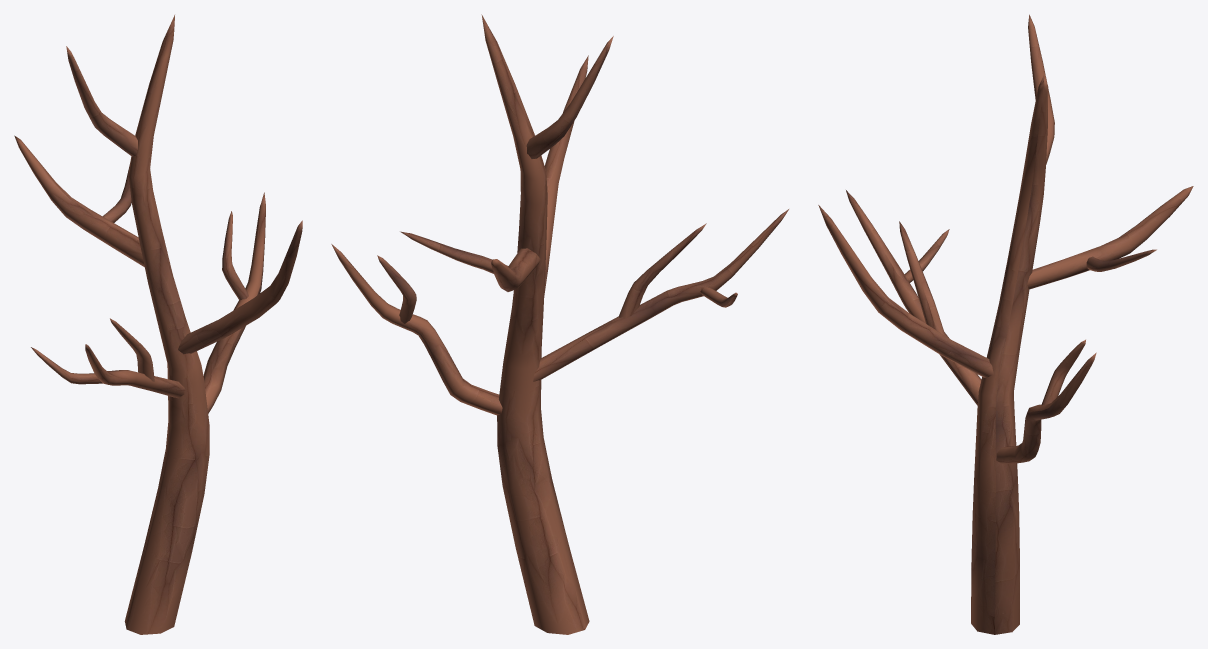
Rendered from DeadTree_5.glb.
3 views of the same model, side by side, from view 1: azimuth 30°, elevation 25°; view 2: azimuth 150°, elevation 25°; view 3: azimuth 270°, elevation 25° (orthographic). The views are drawn at different scales.
Parts seen in each view (by area): view 1: DeadTree_5; view 2: DeadTree_5; view 3: DeadTree_5.
Boxes of the visible parts, left/top/right/bottom form: DeadTree_5: left=14, top=15, right=302, bottom=634; DeadTree_5: left=331, top=14, right=788, bottom=634; DeadTree_5: left=818, top=14, right=1193, bottom=634.
Bounding box in the file's own units: 1.44 × 2.6 × 1.53.
1 material, 1 textured.
